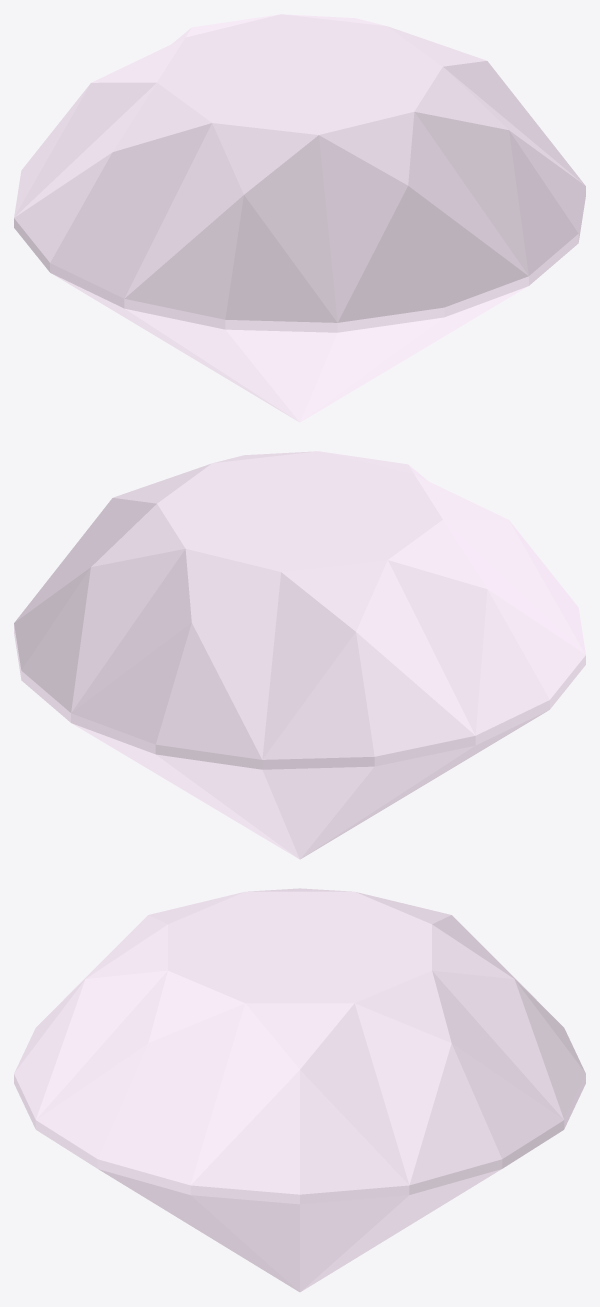
File: ps2_save-icons_omoidenikawarukimi-memoriesoff-revised.glb
The picture shows the model from 3 angles, top to bottom: view 1: azimuth 30°, elevation 25°; view 2: azimuth 150°, elevation 25°; view 3: azimuth 270°, elevation 25°; orthographic projection.
Parts seen in each view (by area): view 1: icon.ico; view 2: icon.ico; view 3: icon.ico.
Boxes of the visible parts, x1,y1,x2,y2 form: icon.ico: (14, 14, 585, 422); icon.ico: (14, 451, 585, 859); icon.ico: (14, 888, 585, 1292).
Size of the model in its own units: 3.93 by 2.61 by 3.93.
Materials: 1 (1 with a texture image).
